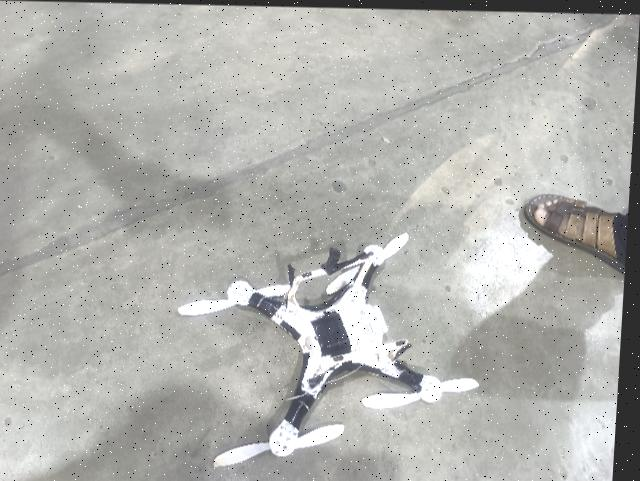drone: (181, 215, 501, 481)
